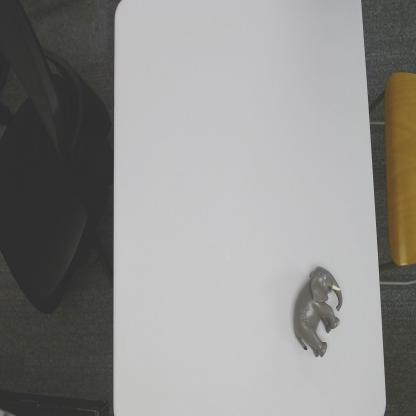Elephant: (292, 263, 343, 360)
